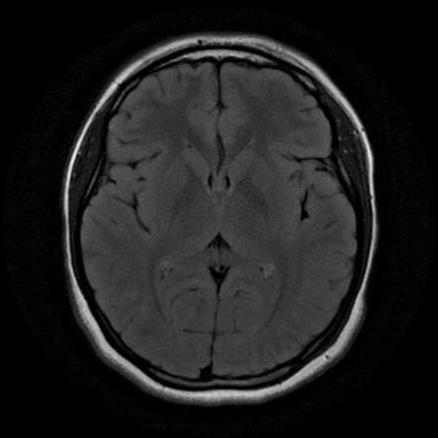Normal_Brain: (2, 1, 438, 438)
